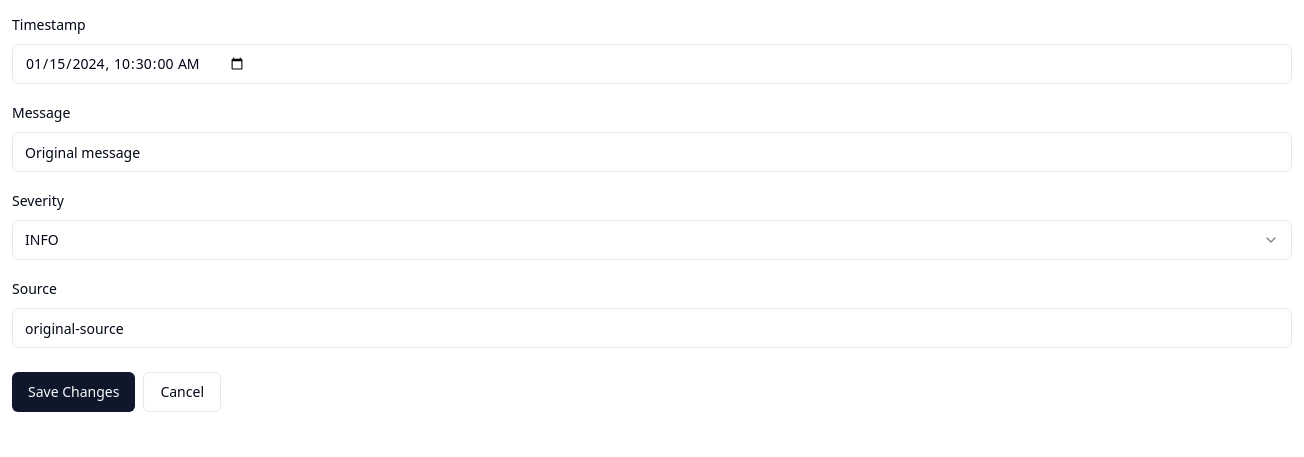
Test: EditForm › shows validation error for empty message
Clear the field labelled "Message" at (652, 152), box [12, 132, 1292, 172]
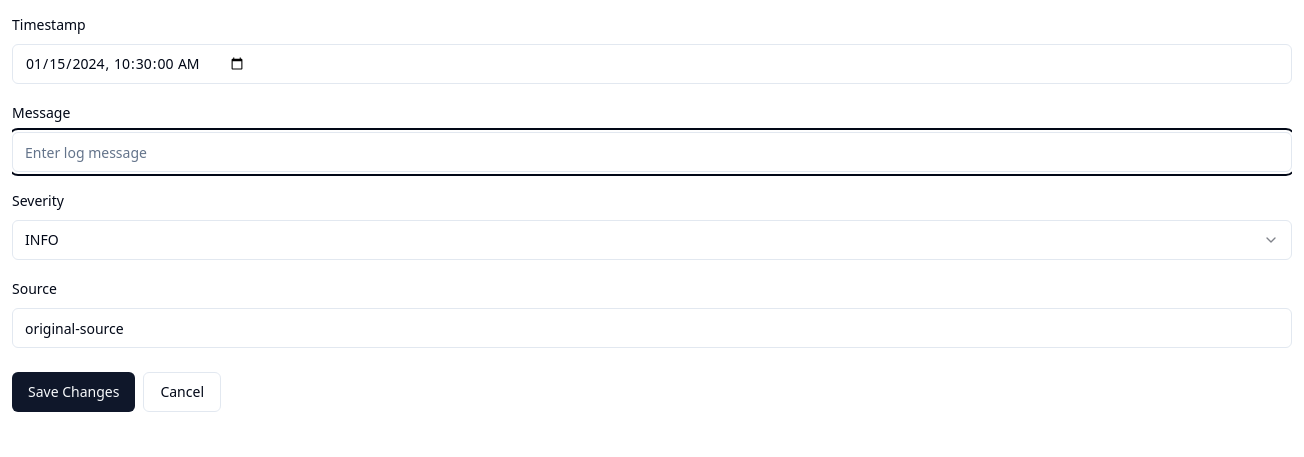
Click the button "Save Changes" at (74, 392), box [12, 372, 135, 412]
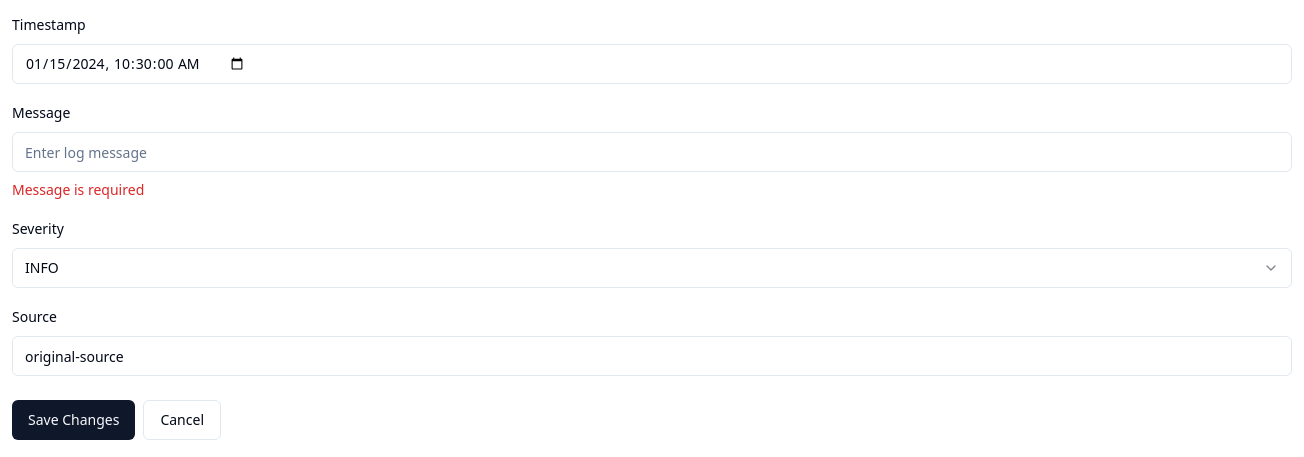
Now the text "Message is required" is shown, box [12, 180, 144, 199]
